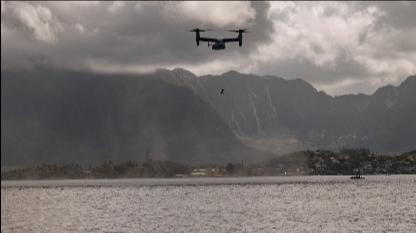Tornado: (183, 27, 253, 49)
